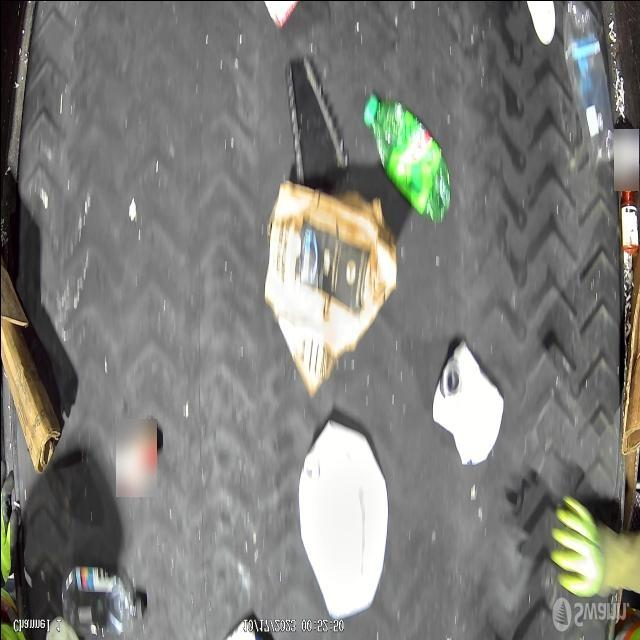milk_jug: (298, 411, 389, 623)
plastic_bottle: (562, 1, 614, 164), (60, 562, 144, 632)
